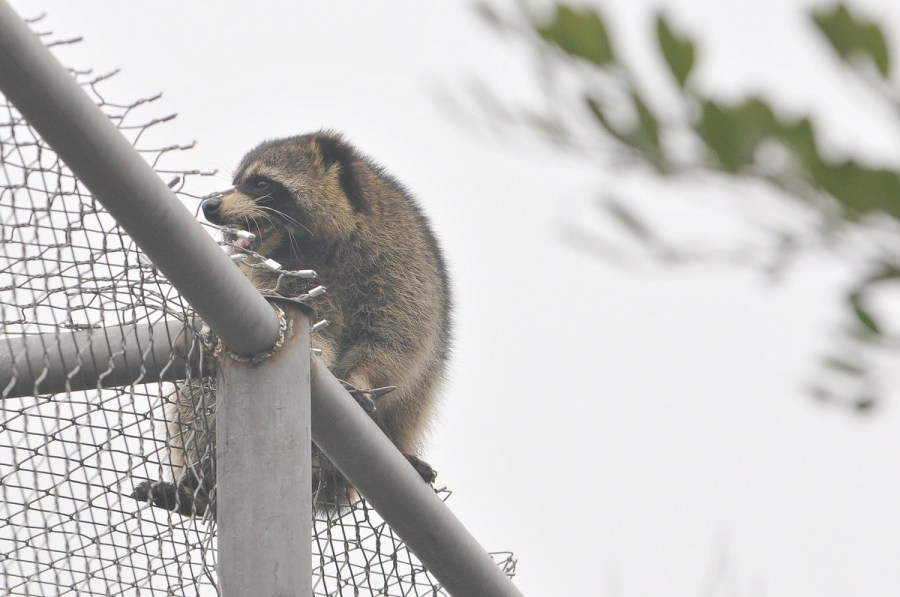raccoon: (114, 117, 466, 528)
